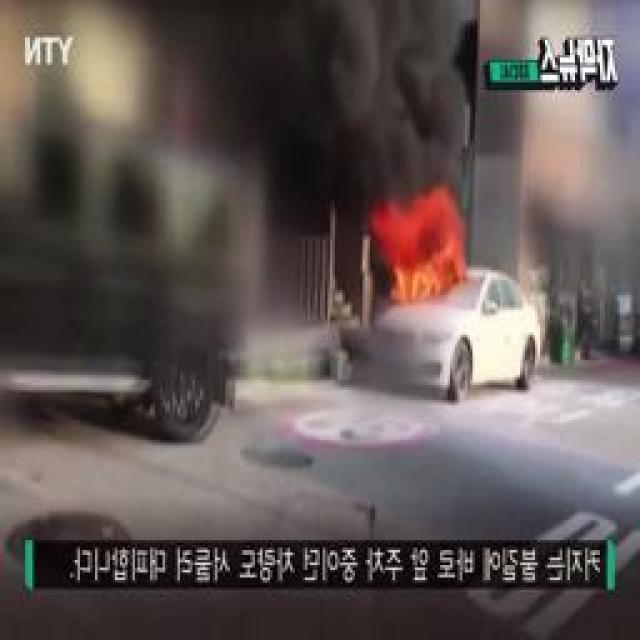Fire: (380, 209, 463, 305)
